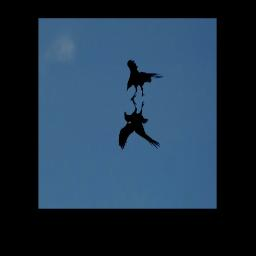Crow: (118, 97, 161, 150)
